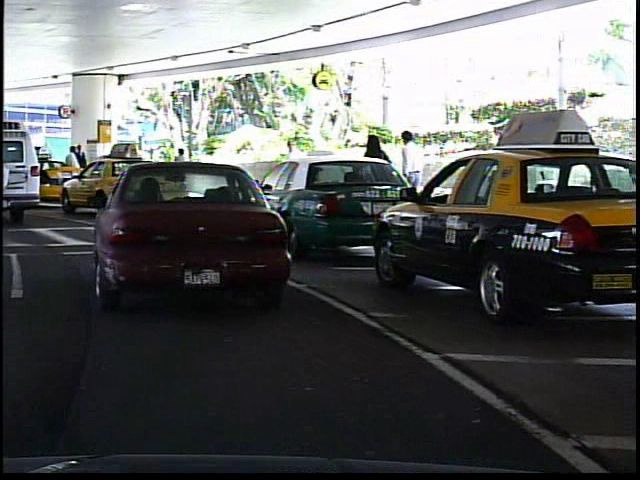person: (394, 124, 430, 227), (356, 130, 392, 228), (275, 133, 304, 205), (167, 142, 192, 193), (62, 145, 80, 198), (73, 142, 89, 194)
